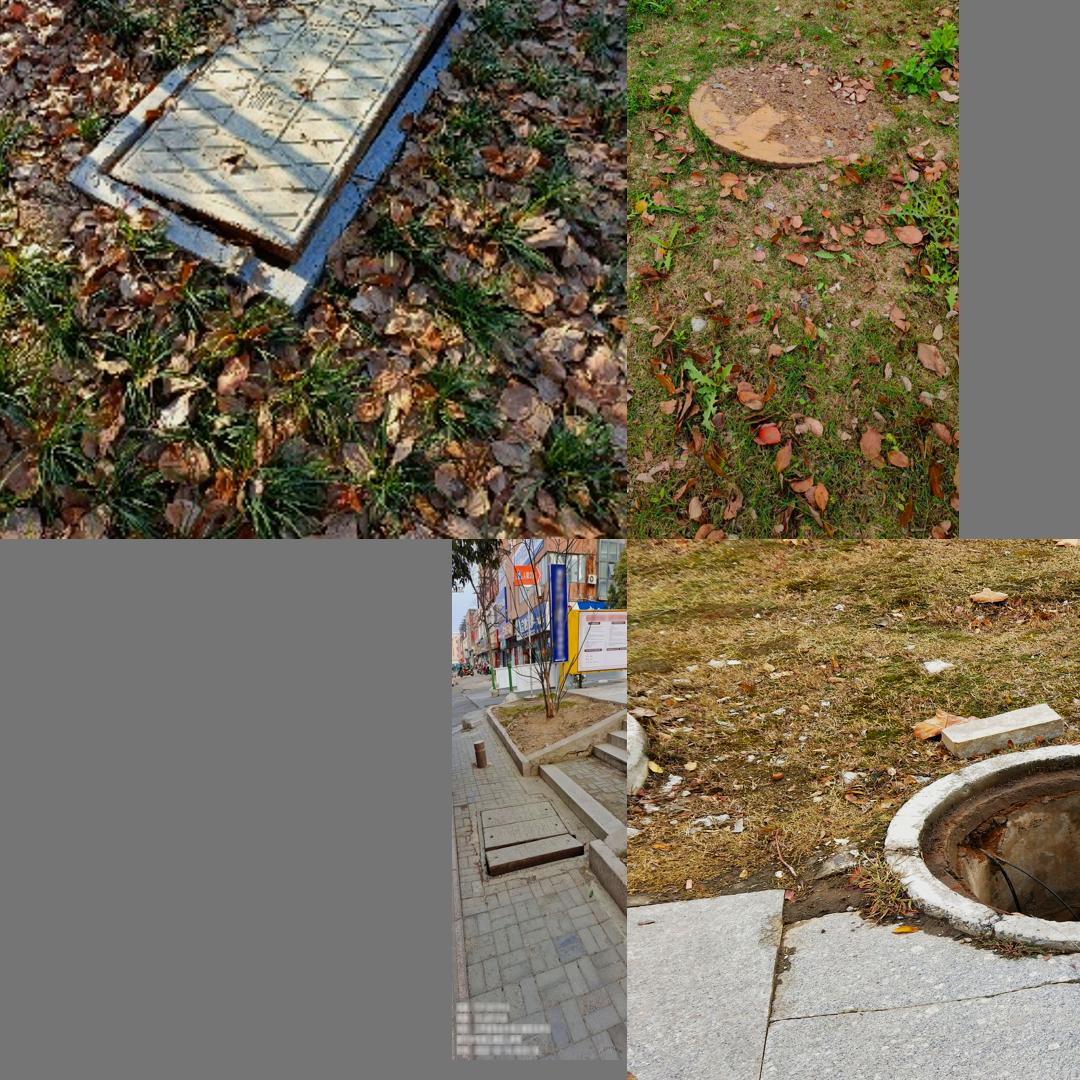uncovered: (76, 0, 477, 262), (883, 742, 1080, 1068), (690, 56, 883, 167), (475, 799, 585, 881)
